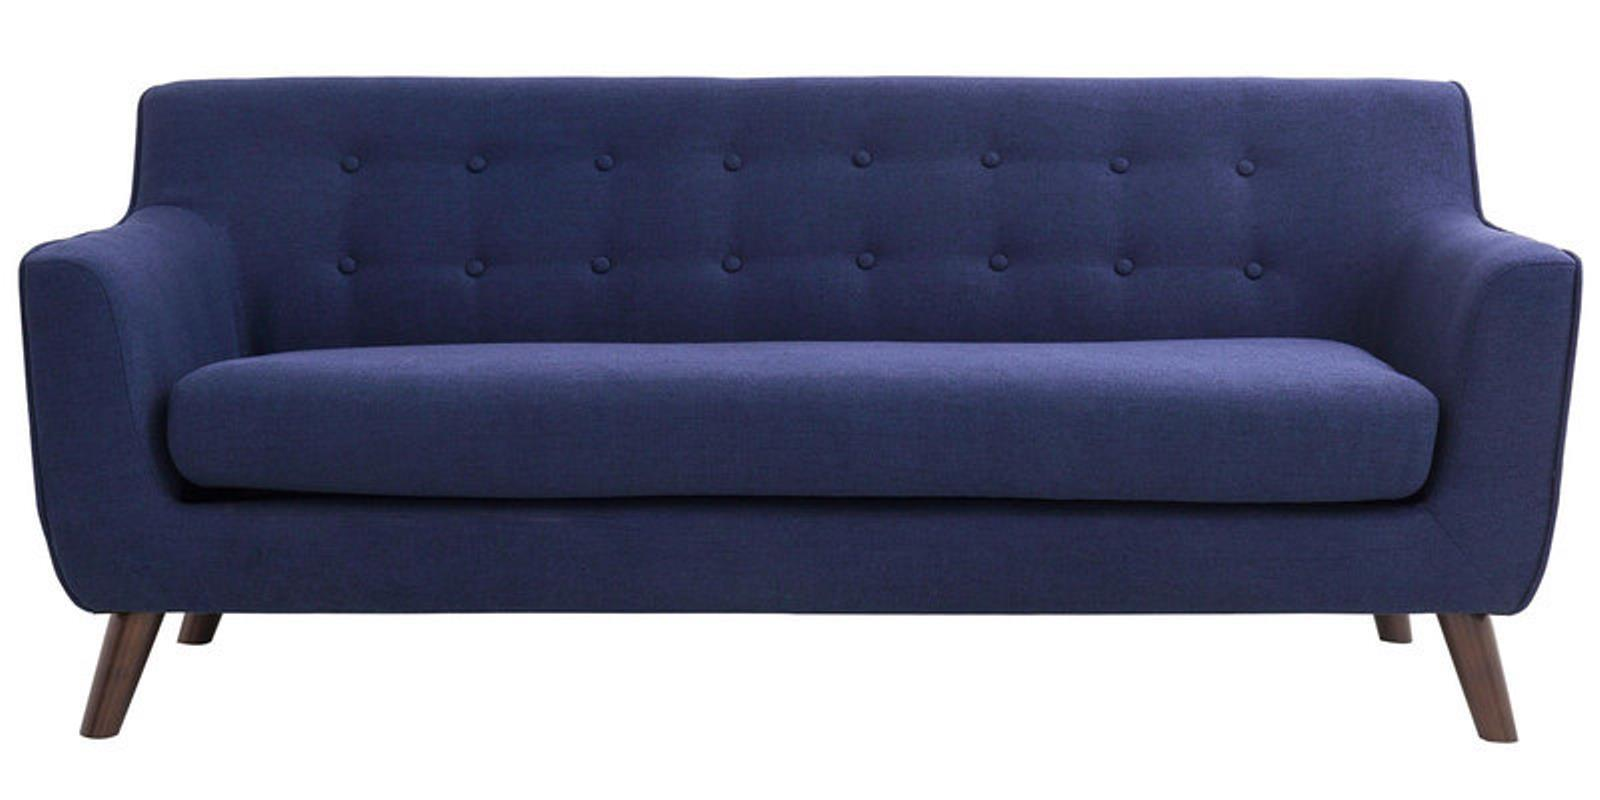Bogota Three Seater Sofa in Blue Colour by CasaCraft: (23, 72, 1600, 690)
